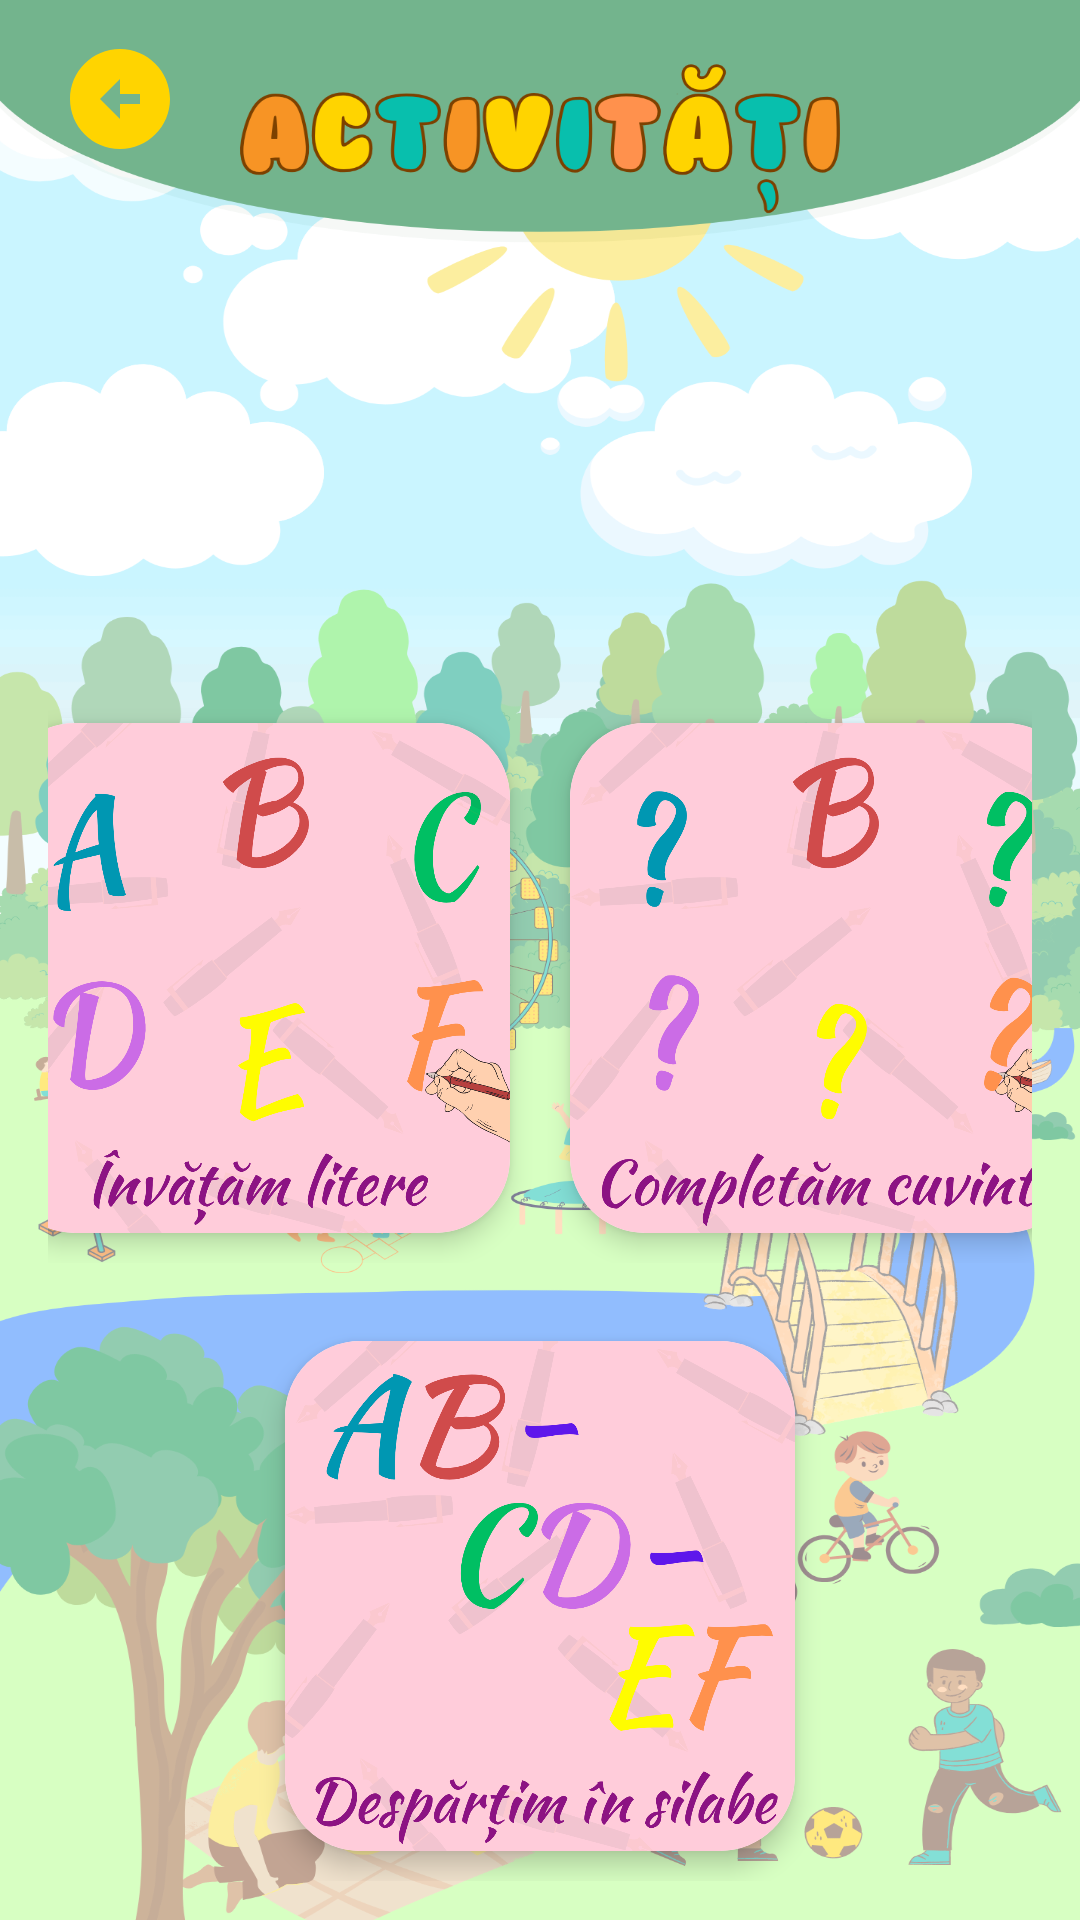

Icon click points for this 1080w x 1920h phone screenshot, format [x,y]:
Înapoi: [120,99]
